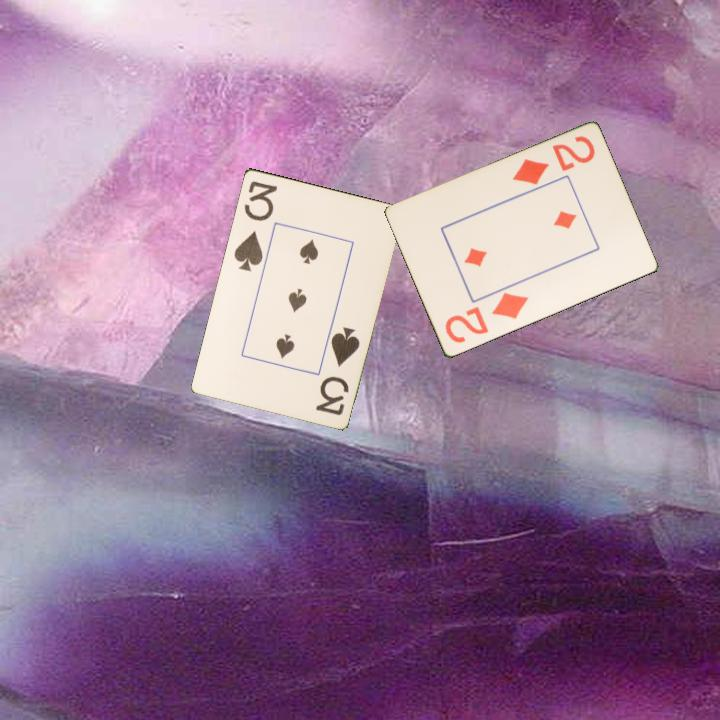2d: (441, 289, 531, 346), (509, 132, 598, 188)
3s: (230, 177, 280, 274), (312, 323, 362, 418)
